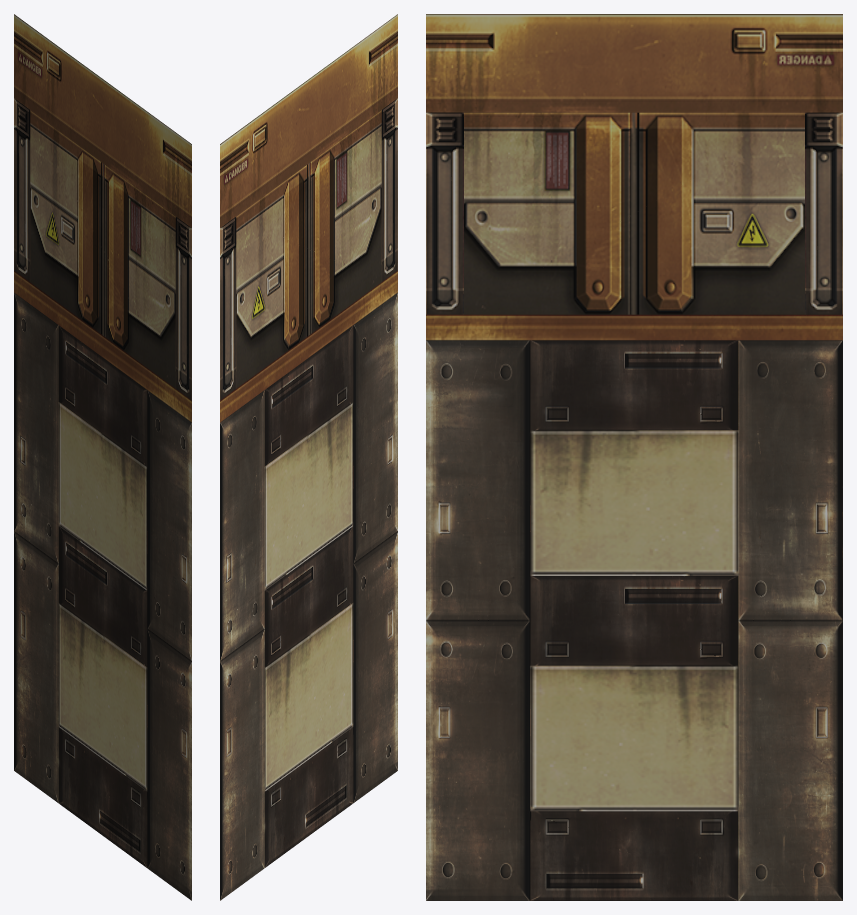
File: mpr_wall_tiny2.FBX
The picture shows the model from 3 angles, left to right: view 1: azimuth 30°, elevation 25°; view 2: azimuth 150°, elevation 25°; view 3: azimuth 270°, elevation 25°; orthographic projection. The views are drawn at different scales.
Parts seen in each view (by area): view 1: mpr_wall_tiny2; view 2: mpr_wall_tiny2; view 3: mpr_wall_tiny2.
Part boxes in pixels (x1=…): mpr_wall_tiny2: x1=14, y1=14, x2=191, y2=900; mpr_wall_tiny2: x1=220, y1=14, x2=397, y2=900; mpr_wall_tiny2: x1=426, y1=14, x2=842, y2=900.
Bounding box in the file's own units: 0 × 864 × 368.
2 materials, 2 textured.
